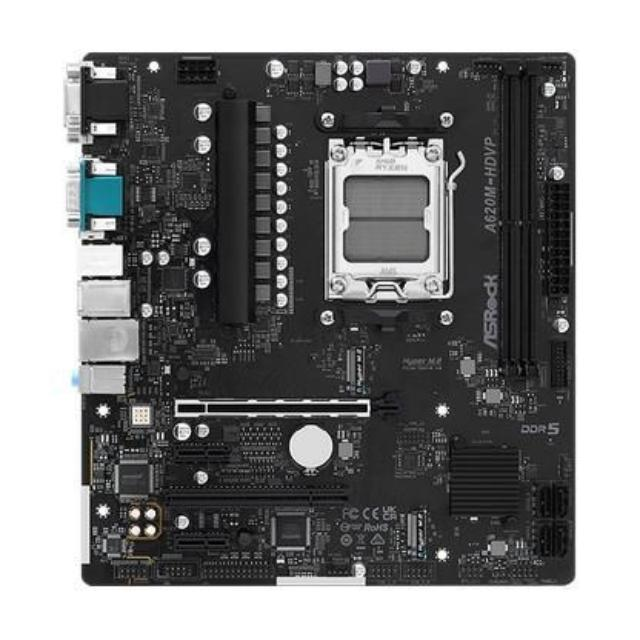Mainboard: (62, 36, 586, 596)
